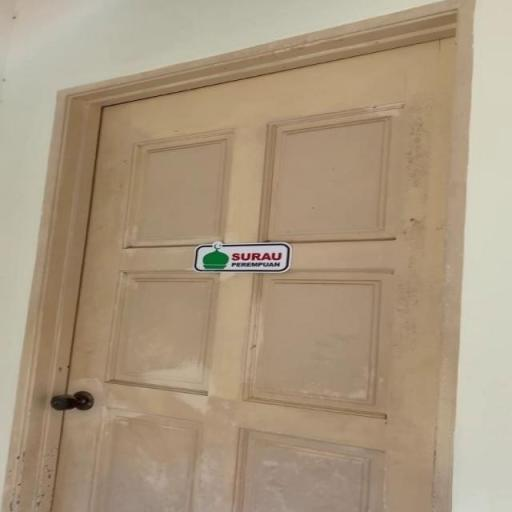door: (12, 34, 456, 510)
